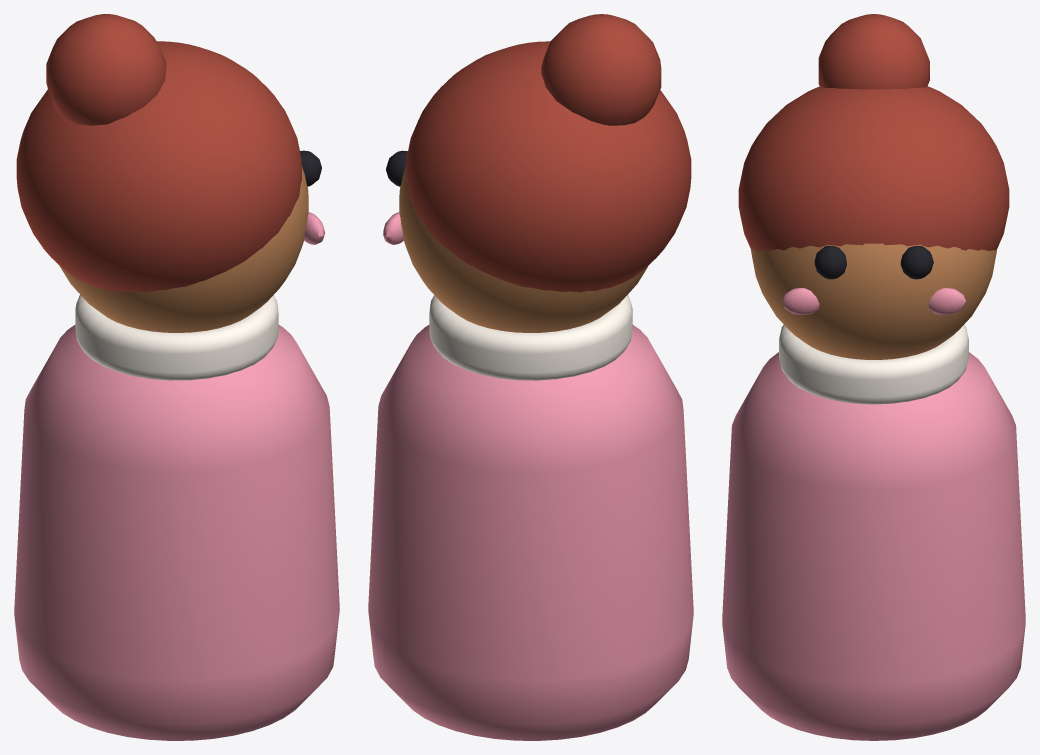
The model's file is peg_b.glb.
3 views of the same model, side by side, from view 1: azimuth 30°, elevation 25°; view 2: azimuth 150°, elevation 25°; view 3: azimuth 270°, elevation 25° (orthographic). The views are drawn at different scales.
Parts seen in each view (by area): view 1: peg_b; view 2: peg_b; view 3: peg_b.
Boxes of the visible parts, x1,y1,x2,y2 form: peg_b: (14, 14, 339, 740); peg_b: (368, 14, 693, 740); peg_b: (722, 14, 1025, 740).
Size of the model in its own units: 0.32 by 0.74 by 0.3189.
Materials: 1 (1 with a texture image).
